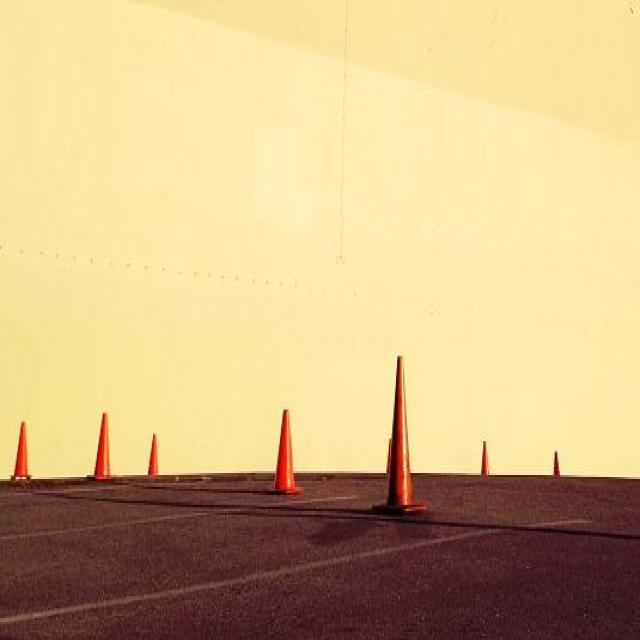Cone: (384, 354, 431, 517), (272, 409, 302, 495), (90, 411, 118, 485), (11, 421, 31, 481), (147, 433, 158, 475), (482, 437, 489, 477), (553, 451, 562, 479)
